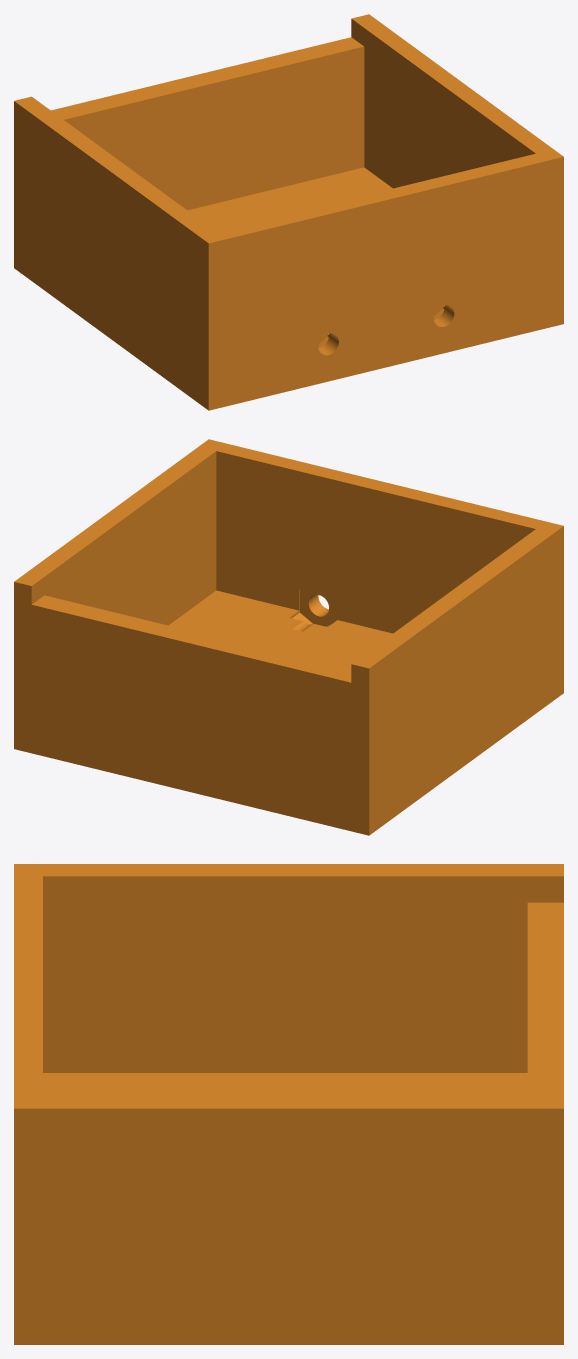
Rendered from elev_cacamba.glb.
3 renders of one model, top to bottom at view 1: azimuth 30°, elevation 25°; view 2: azimuth 150°, elevation 25°; view 3: azimuth 270°, elevation 25°, orthographic. The views are drawn at different scales.
Visible parts, largest first — view 1: elev_cacamba; view 2: elev_cacamba; view 3: elev_cacamba.
Part boxes in pixels (<box>): elev_cacamba: <box>14,14,563,410</box>; elev_cacamba: <box>14,439,563,835</box>; elev_cacamba: <box>14,864,563,1344</box>.
Bounding box in the file's own units: 40 × 18 × 38.
